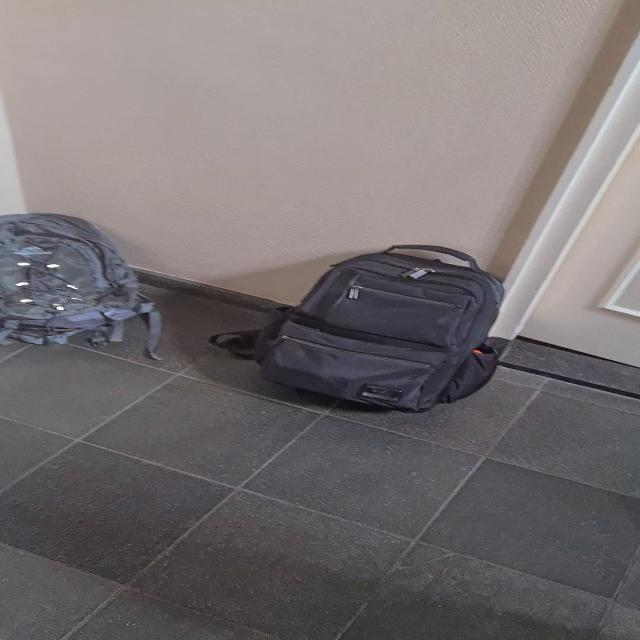backpack: (254, 238, 518, 417), (0, 210, 165, 342)
